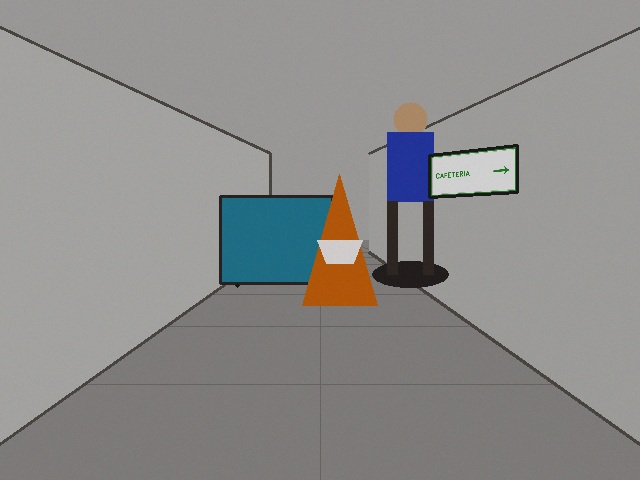cart: (220, 196, 332, 283)
directional_sign: (429, 145, 517, 197)
obstacle: (302, 174, 377, 305)
person: (376, 102, 444, 274)
